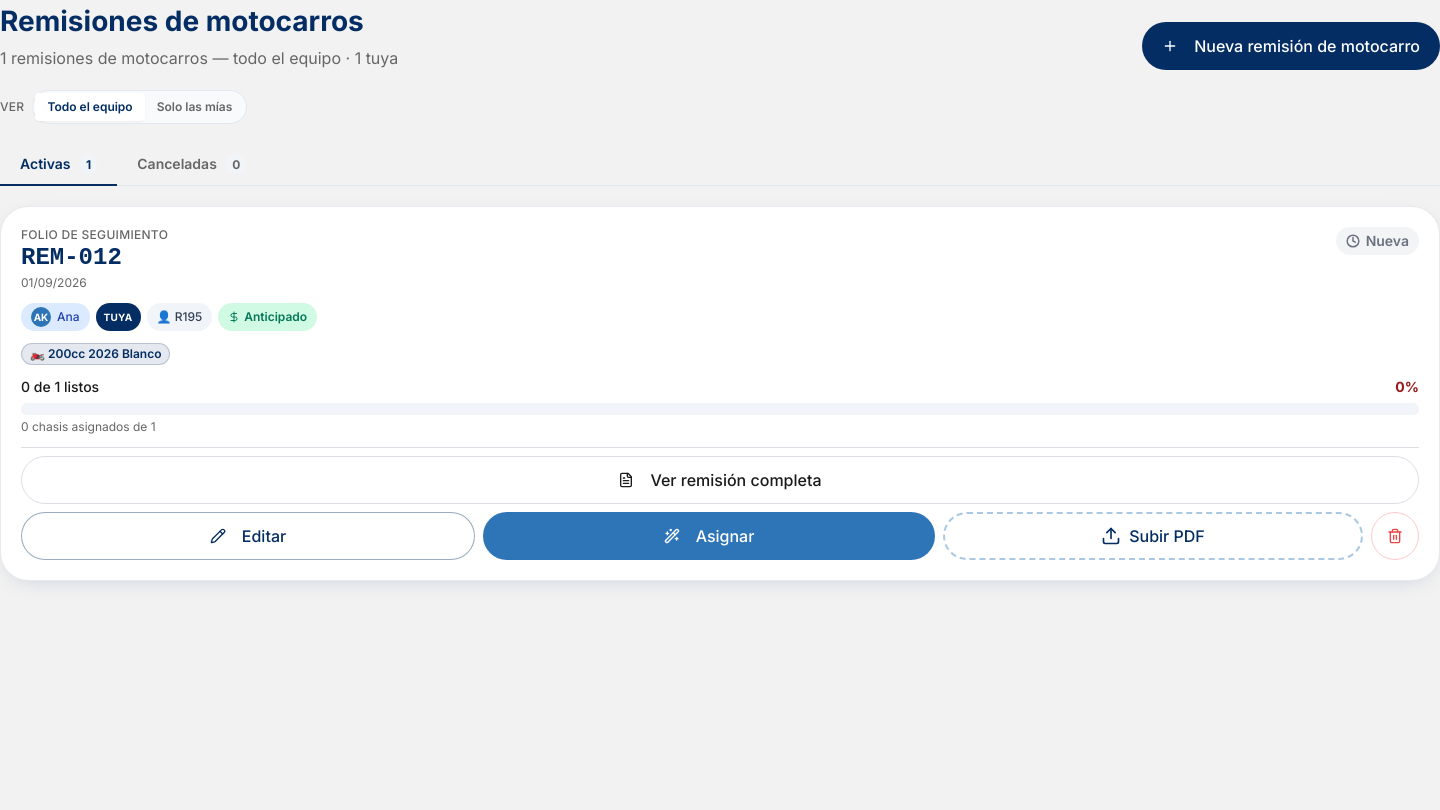
it: Remisiones · editar y complementar › el diálogo trae cargado lo que ya se había capturado
The width and height of the screenshot is (1440, 810).
What coordinates should you click on to do the following:
click the button "Editar"
I would click on:
 (248, 536)
Its box is [21,512,475,560].
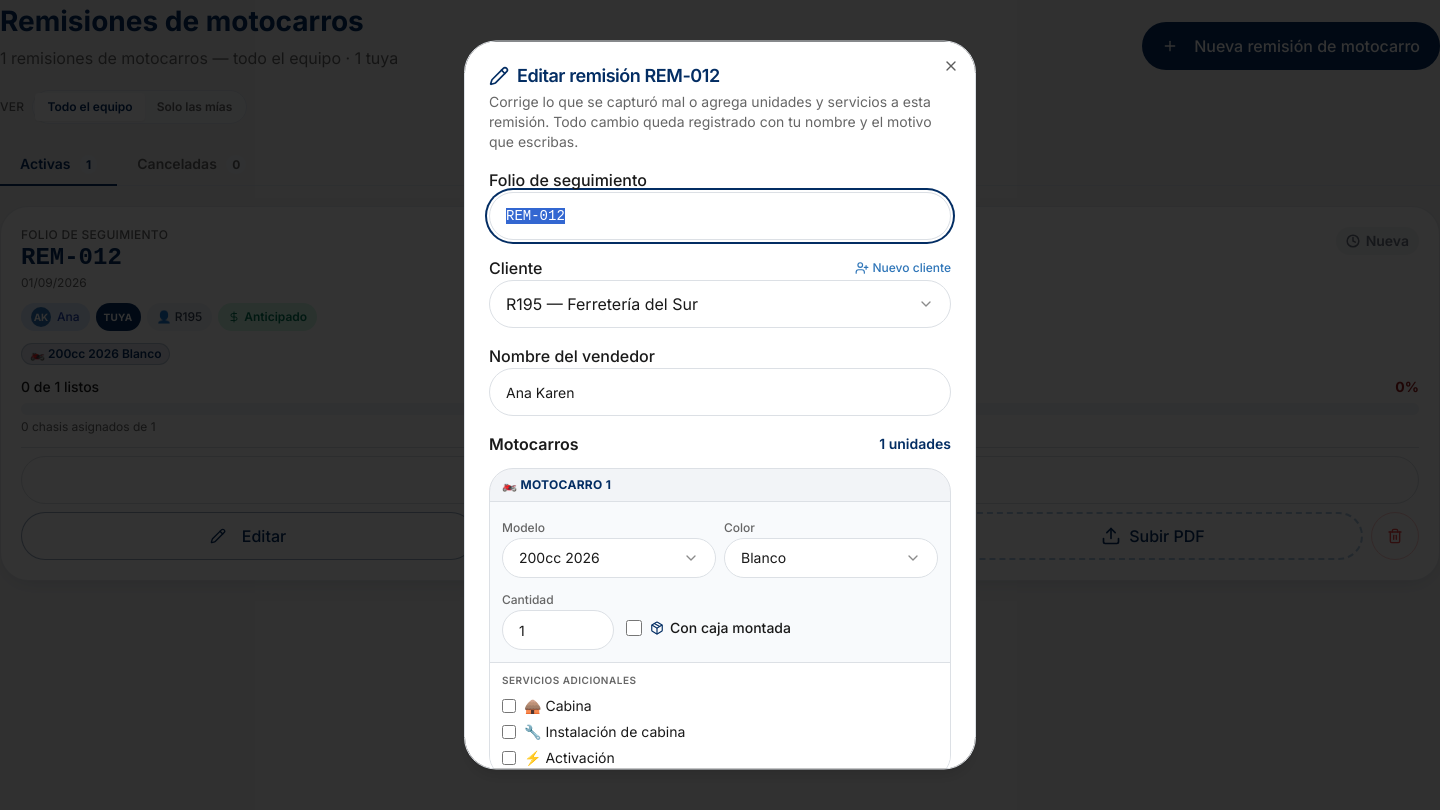
Check: the 1st field is shown, box [489,192,951,240]
Check: the text "Motocarro 1" is shown, box [520,476,611,492]
